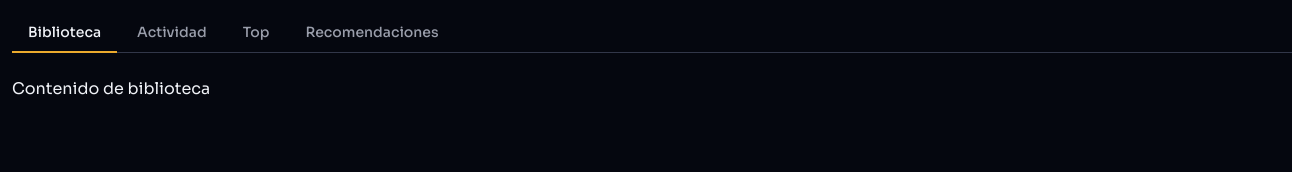
Test case: SectionTabs › switches content when another tab is clicked
The width and height of the screenshot is (1292, 172).
Click the tab "Actividad".
click(172, 32)  # box top-left (121, 12), bottom-right (223, 52)
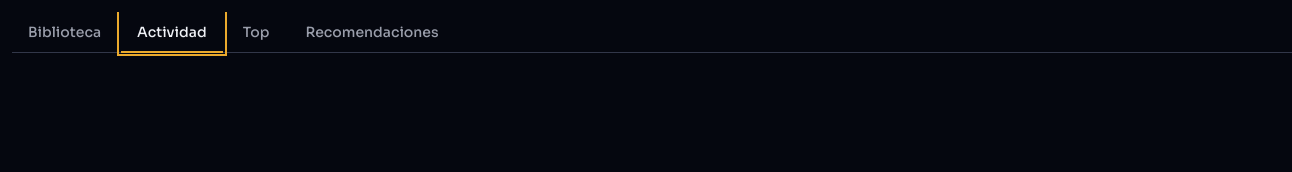
expect the text "Contenido de biblioteca" is gone: met
